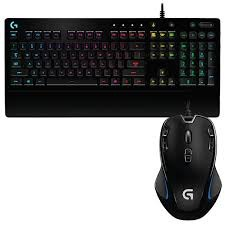keyboard: (8, 20, 219, 116)
mouse: (153, 103, 225, 223)
